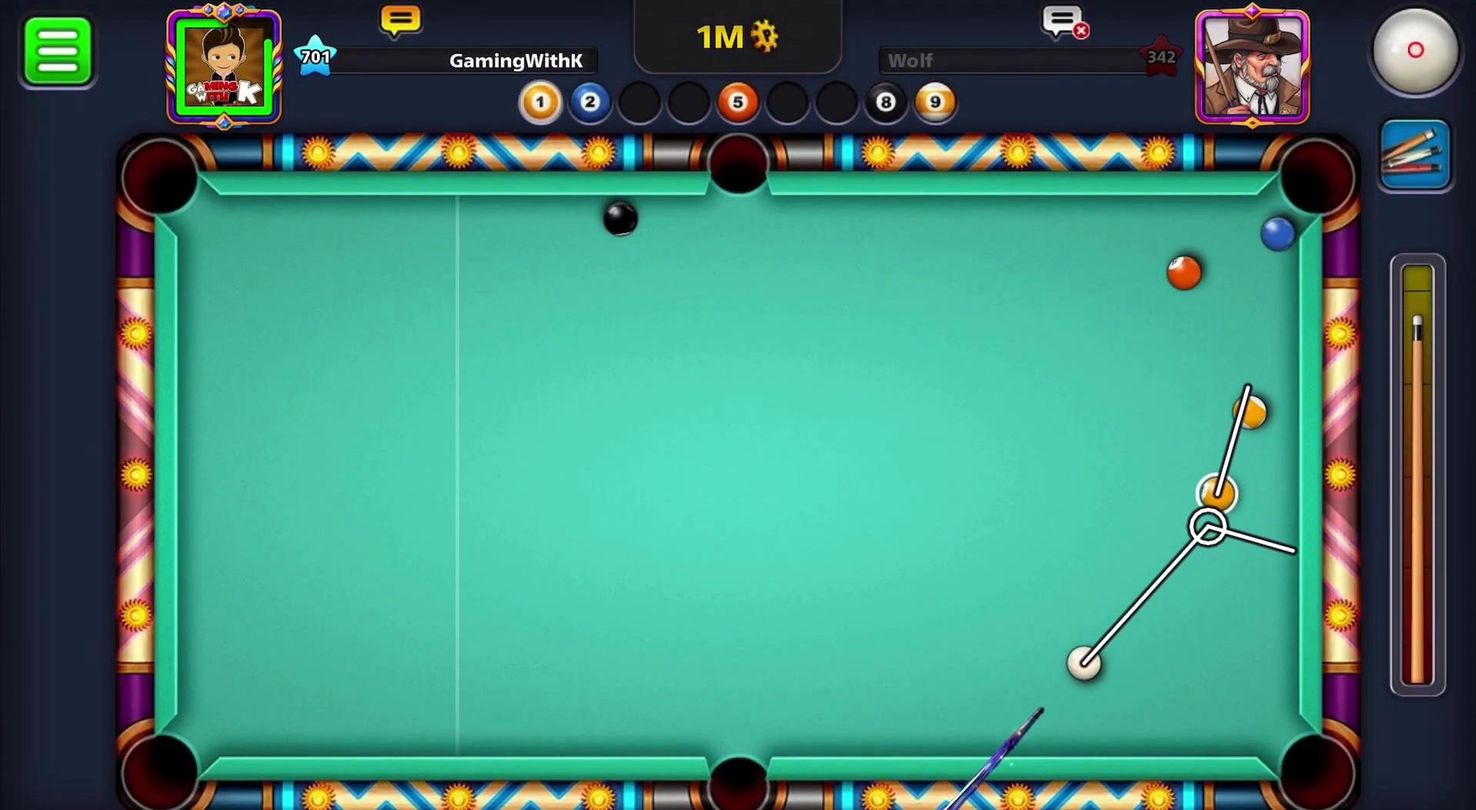Ball: (1193, 470, 1241, 516), (1161, 251, 1208, 297), (1232, 386, 1274, 434), (597, 198, 640, 237), (1259, 213, 1299, 254)
Force: (1385, 254, 1452, 707)
Guideline: (1072, 384, 1303, 669)
Hole: (108, 128, 214, 231), (1268, 129, 1364, 234), (1265, 715, 1364, 809), (110, 719, 213, 809), (685, 736, 788, 809), (696, 125, 783, 207)
Play_Area: (176, 192, 1312, 761)
Spin: (1340, 0, 1474, 114)
White: (1060, 642, 1110, 689)
